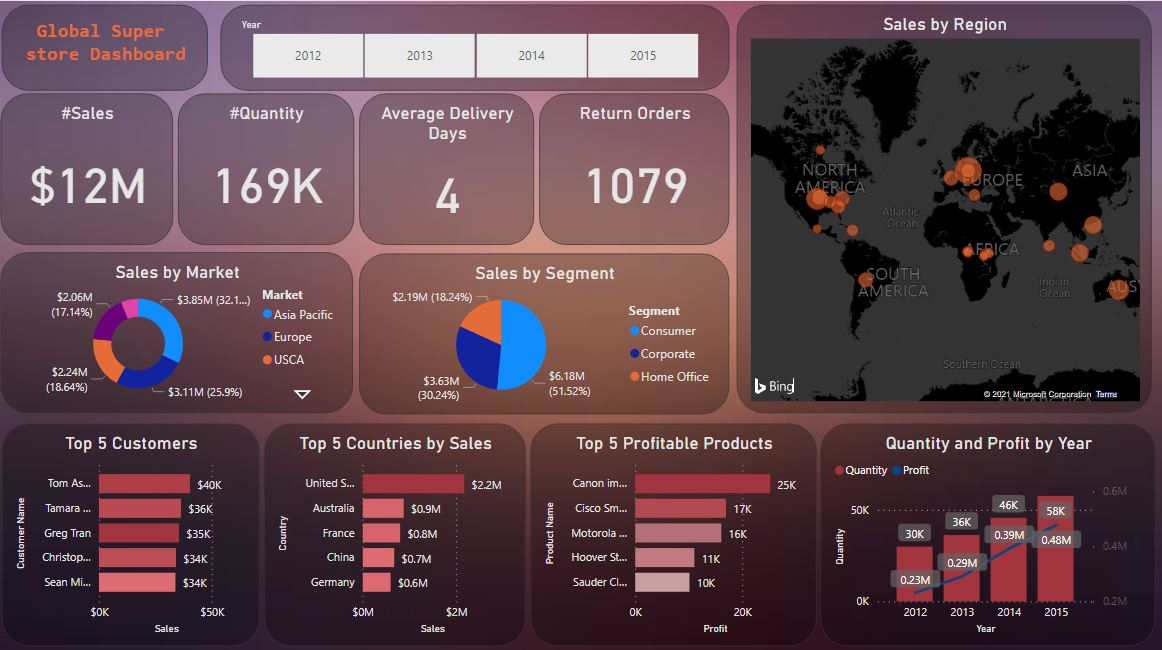

The dashboard page shown, as its layout file describes it:
{"tool":"powerbi","page":{"name":"Page 1","canvas":[1280,720],"ordinal":0},"visuals":[{"type":"card","title":"#Sales","fields":{"Values":["Orders.Sales"]},"box":[2.7,104.4,189.5,114],"z":0},{"type":"card","title":"#Quantity","fields":{"Values":["Orders.Quantity"]},"box":[197.8,105.8,193.6,114],"z":1000},{"type":"card","title":"Average Delivery Days","fields":{"Values":["Orders.Delivery Days"]},"box":[396.9,107.1,192.3,114],"z":2000},{"type":"slicer","fields":{"Values":["Orders.Year"]},"box":[244.5,5.5,559,94.8],"z":3000},{"type":"card","title":"Return Orders","fields":{"Values":["Returns.Return Orders"]},"box":[594.7,107.1,208.8,114],"z":4000},{"type":"map","fields":{"Category":["Orders.Region"],"Size":["Orders.Sales"]},"box":[811.7,4.1,456,449.1],"z":5000},{"type":"barChart","title":"Top 5 Countries by Sales","fields":{"Y":["Orders.Sales"],"Category":["Orders.Country"]},"box":[292.5,464.2,287,244.5],"z":6000},{"type":"barChart","title":"Top 5 Profitable Products","fields":{"Category":["Orders.Product Name"],"Y":["Orders.Profit"]},"box":[585.1,464.2,314.5,244.5],"z":7000},{"type":"pieChart","fields":{"Category":["Orders.Segment"],"Y":["Orders.Sales"]},"box":[396.9,228,406.5,225.2],"z":8000},{"type":"donutChart","fields":{"Y":["Orders.Sales"],"Category":["Orders.Market"]},"box":[2.7,229.4,387.3,223.9],"z":9000},{"type":"barChart","title":"Top 5 Customers","fields":{"Category":["Orders.Customer Name"],"Y":["Orders.Sales"]},"box":[4.1,464.2,282.9,244.5],"z":10000},{"type":"lineStackedColumnComboChart","fields":{"Y":["Orders.Quantity"],"Category":["Orders.Year"],"Y2":["Orders.Profit"]},"box":[903.7,464.2,368.1,244.5],"z":11000},{"type":"textbox","box":[4.1,5.5,226.6,94.8],"z":12000}]}

Visuals, with their boxes in screenshot pixels (x1, y1, x2, y2), scaled from the page's 1280x720 canvas onto the 1162x650 screenshot:
"#Sales" card: crop(2, 94, 174, 197)
"#Quantity" card: crop(180, 96, 355, 198)
"Average Delivery Days" card: crop(360, 97, 535, 200)
slicer - Orders.Year: crop(222, 5, 729, 91)
"Return Orders" card: crop(540, 97, 729, 200)
map - Orders.Region x Orders.Sales: crop(737, 4, 1151, 409)
"Top 5 Countries by Sales" barChart: crop(266, 419, 526, 640)
"Top 5 Profitable Products" barChart: crop(531, 419, 817, 640)
pieChart - Orders.Segment x Orders.Sales: crop(360, 206, 729, 409)
donutChart - Orders.Sales x Orders.Market: crop(2, 207, 354, 409)
"Top 5 Customers" barChart: crop(4, 419, 261, 640)
lineStackedColumnComboChart - Orders.Quantity x Orders.Year: crop(820, 419, 1155, 640)
textbox: crop(4, 5, 209, 91)
